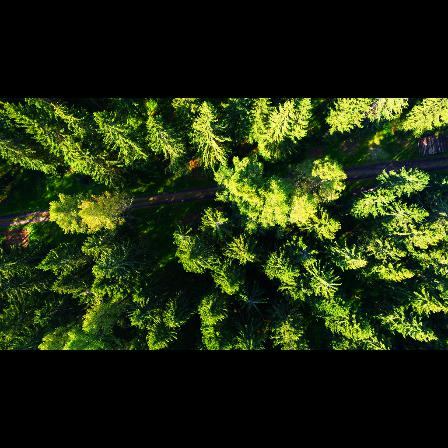Sick: (295, 244, 316, 266)
